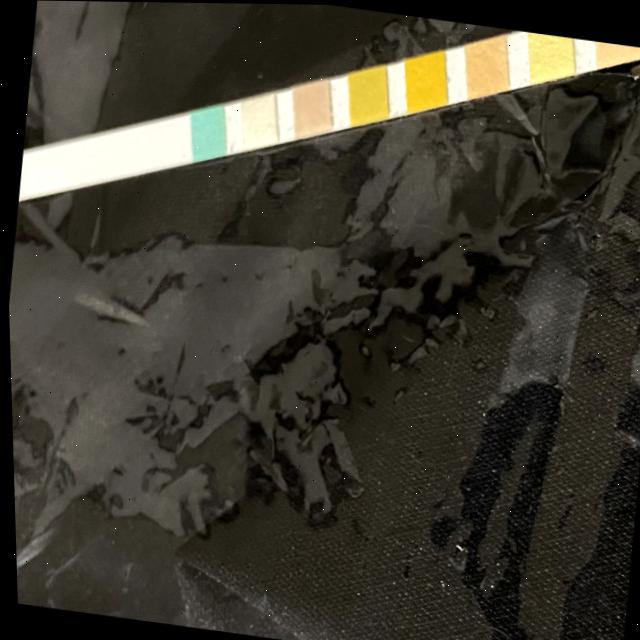Bilirubin: (241, 97, 275, 141)
Blood: (406, 57, 446, 103)
Glucose: (192, 111, 225, 152)
Ketone: (294, 84, 328, 129)
Protein: (529, 30, 572, 74)
SpGravity: (350, 71, 386, 116)
Urobilinogen: (597, 38, 638, 55)
pH: (465, 40, 507, 87)
